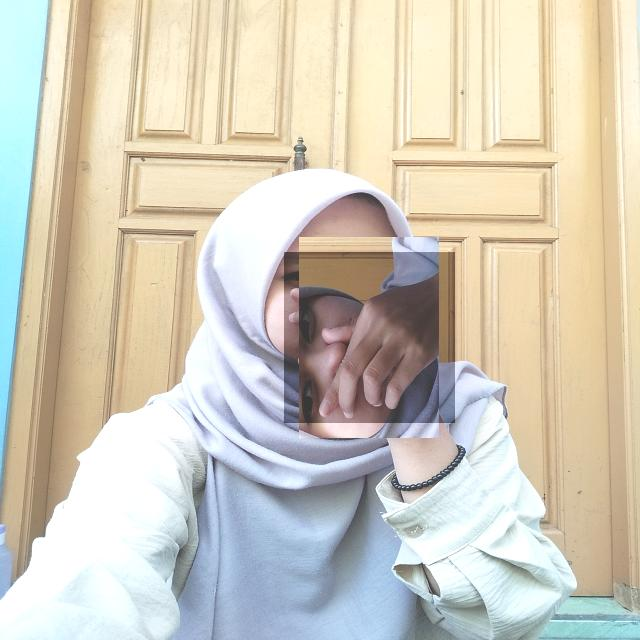bau: (284, 252, 455, 423)
